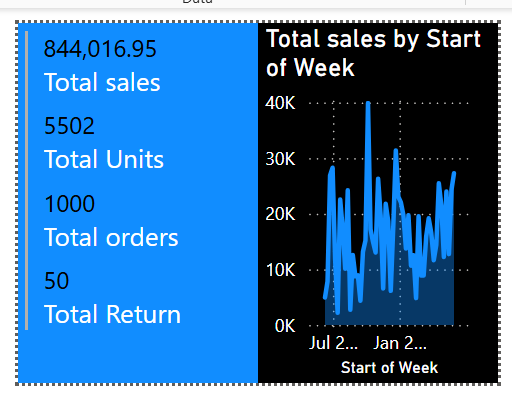

What the dashboard file says about the page in this screenshot:
{"tool":"powerbi","page":{"name":"Tooltip","canvas":[320,240],"ordinal":2},"visuals":[{"type":"multiRowCard","fields":{"Values":["Measure Table.Total sales","Measure Table.Total orders","Measure Table.Net sales","Measure Table.Total Cost","Measure Table.Total Return"]},"box":[118.7,382.4,182.9,289.7],"z":0},{"type":"areaChart","fields":{"Y":["Measure Table.Total sales"],"Category":["FinalProject_Dataset - Date_Dim.Start of Week"]},"box":[542.4,225.1,173.3,270.4],"z":1000},{"type":"areaChart","fields":{"Y":["Measure Table.Total sales"],"Category":["FinalProject_Dataset - Date_Dim.Start of Week"]},"box":[160,0,160,240],"z":2000},{"type":"multiRowCard","fields":{"Values":["Measure Table.Total sales","Measure Table.Total Units","Measure Table.Total orders","Measure Table.Total Return"]},"box":[0,0,160,240],"z":3000}]}

Visuals, with their boxes on the page's 320x240 design canvas (x1, y1, x2, y2). These are canvas units, not pixel positions in the 512x420 screenshot, which may show the page scaled, cropped or inside an application window:
multiRowCard - Measure Table.Total sales x Measure Table.Total orders: bbox(119, 382, 302, 672)
areaChart - Measure Table.Total sales x FinalProject_Dataset - Date_Dim.Start of Week: bbox(542, 225, 716, 496)
areaChart - Measure Table.Total sales x FinalProject_Dataset - Date_Dim.Start of Week: bbox(160, 0, 320, 240)
multiRowCard - Measure Table.Total sales x Measure Table.Total Units: bbox(0, 0, 160, 240)
